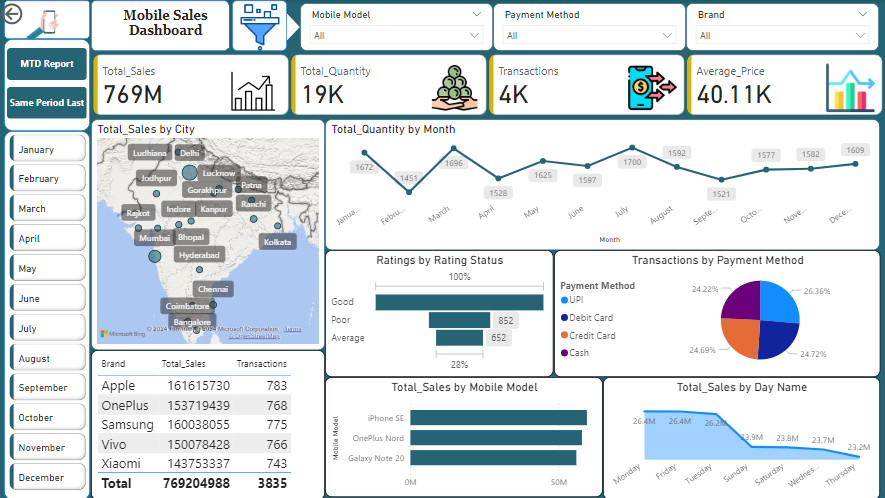

What the dashboard file says about the page in this screenshot:
{"tool":"powerbi","page":{"name":"Dashboard","canvas":[1280,720],"ordinal":0},"visuals":[{"type":"shape","box":[377.3,8.6,57.6,60.5],"z":0},{"type":"shape","box":[8.6,0,123.8,56.2],"z":1000},{"type":"image","box":[36,0,69.1,69.1],"z":2000},{"type":"shape","box":[8.6,56.2,123.8,132.5],"z":3000},{"type":"shape","box":[8.6,188.6,123.8,531.4],"z":4000},{"type":"advancedSlicerVisual","fields":{"Values":["Custom_Calendar.Date.Variation.Date Hierarchy.Month"]},"box":[11.5,188.6,121,531.4],"z":5000},{"type":"cardVisual","fields":{"Data":["Mobile_Sales_Data.Total_Sales","Mobile_Sales_Data.Total_Quantity","Mobile_Sales_Data.Transactions","Mobile_Sales_Data.Average_Price"]},"box":[132.5,73.4,1147.7,97.9],"z":6000},{"type":"slicer","fields":{"Values":["Mobile_Sales_Data.Mobile Model"]},"box":[434.9,4.3,277.9,69.1],"z":7000},{"type":"slicer","fields":{"Values":["Mobile_Sales_Data.Payment Method"]},"box":[712.8,4.3,277.9,69.1],"z":8000},{"type":"slicer","fields":{"Values":["Mobile_Sales_Data.Brand"]},"box":[990.7,4.3,277.9,69.1],"z":9000},{"type":"shape","box":[337,0,79.2,73.4],"z":10000},{"type":"image","box":[293.8,0,167,79.2],"z":11000},{"type":"shape","box":[133.9,0,198.7,73.4],"z":12000},{"type":"textbox","box":[149.8,7.2,182.9,61.9],"z":13000},{"type":"map","fields":{"Category":["Mobile_Sales_Data.City"],"Size":["Mobile_Sales_Data.Total_Sales"]},"box":[134.3,171.4,337.1,332.9],"z":14000},{"type":"lineChart","fields":{"Category":["Custom_Calendar.Date.Variation.Date Hierarchy.Month"],"Y":["Mobile_Sales_Data.Total_Quantity"]},"box":[471.4,171.4,798.6,188.6],"z":15000},{"type":"funnel","title":"Ratings by Rating Status","fields":{"Category":["Mobile_Sales_Data.Rating Status"],"Y":["CountNonNull(Mobile_Sales_Data.Customer Ratings)"]},"box":[471.4,360,328.6,182.9],"z":16000},{"type":"pieChart","fields":{"Category":["Mobile_Sales_Data.Payment Method"],"Y":["Mobile_Sales_Data.Transactions"]},"box":[800,360,470,182.9],"z":17000},{"type":"clusteredBarChart","fields":{"Y":["Mobile_Sales_Data.Total_Sales"],"Category":["Mobile_Sales_Data.Mobile Model"]},"box":[471.4,542.9,400,172.9],"z":18000},{"type":"areaChart","fields":{"Category":["Custom_Calendar.Day Name"],"Y":["Mobile_Sales_Data.Total_Sales"]},"box":[871.4,542.9,398.6,177.1],"z":19000},{"type":"tableEx","fields":{"Values":["Mobile_Sales_Data.Brand","Mobile_Sales_Data.Total_Sales","Mobile_Sales_Data.Transactions"]},"box":[134,504,337,216],"z":20000},{"type":"actionButton","box":[0,0,100,40],"z":21000},{"type":"pageNavigator","box":[13,69.1,115.2,102.2],"z":22000}]}

Visuals, with their boxes in screenshot pixels (x1, y1, x2, y2), scaled from the page's 1280x720 canvas onto the 885x498 screenshot:
shape: box=[261, 6, 301, 48]
shape: box=[6, 0, 92, 39]
image: box=[25, 0, 73, 48]
shape: box=[6, 39, 92, 131]
shape: box=[6, 130, 92, 497]
advancedSlicerVisual - Custom_Calendar.Date.Variation.Date Hierarchy.Month: box=[8, 130, 92, 497]
cardVisual - Mobile_Sales_Data.Total_Sales x Mobile_Sales_Data.Total_Quantity: box=[92, 51, 884, 118]
slicer - Mobile_Sales_Data.Mobile Model: box=[301, 3, 493, 51]
slicer - Mobile_Sales_Data.Payment Method: box=[493, 3, 685, 51]
slicer - Mobile_Sales_Data.Brand: box=[685, 3, 877, 51]
shape: box=[233, 0, 288, 51]
image: box=[203, 0, 319, 55]
shape: box=[93, 0, 230, 51]
textbox: box=[104, 5, 230, 48]
map - Mobile_Sales_Data.City x Mobile_Sales_Data.Total_Sales: box=[93, 119, 326, 349]
lineChart - Custom_Calendar.Date.Variation.Date Hierarchy.Month x Mobile_Sales_Data.Total_Quantity: box=[326, 119, 878, 249]
"Ratings by Rating Status" funnel: box=[326, 249, 553, 376]
pieChart - Mobile_Sales_Data.Payment Method x Mobile_Sales_Data.Transactions: box=[553, 249, 878, 376]
clusteredBarChart - Mobile_Sales_Data.Total_Sales x Mobile_Sales_Data.Mobile Model: box=[326, 376, 602, 495]
areaChart - Custom_Calendar.Day Name x Mobile_Sales_Data.Total_Sales: box=[602, 376, 878, 497]
tableEx - Mobile_Sales_Data.Brand x Mobile_Sales_Data.Total_Sales: box=[93, 349, 326, 497]
actionButton: box=[0, 0, 69, 28]
pageNavigator: box=[9, 48, 89, 118]
